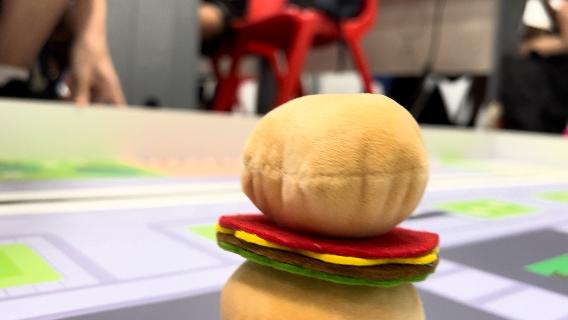burger: (214, 88, 444, 320)
